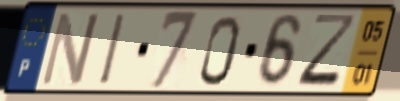0: (197, 12, 245, 88)
6: (255, 12, 305, 91)
7: (151, 8, 202, 93)
I: (97, 11, 129, 89)
N: (37, 9, 103, 89)
Z: (294, 12, 361, 91)
